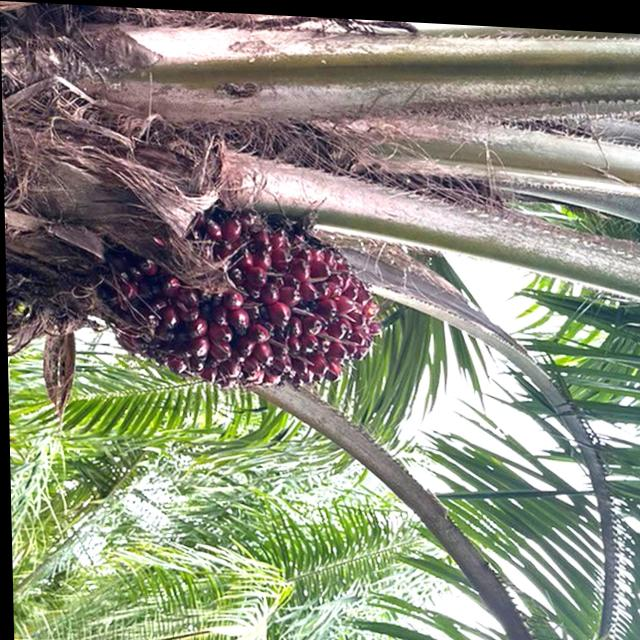ripe: (133, 214, 398, 399)
